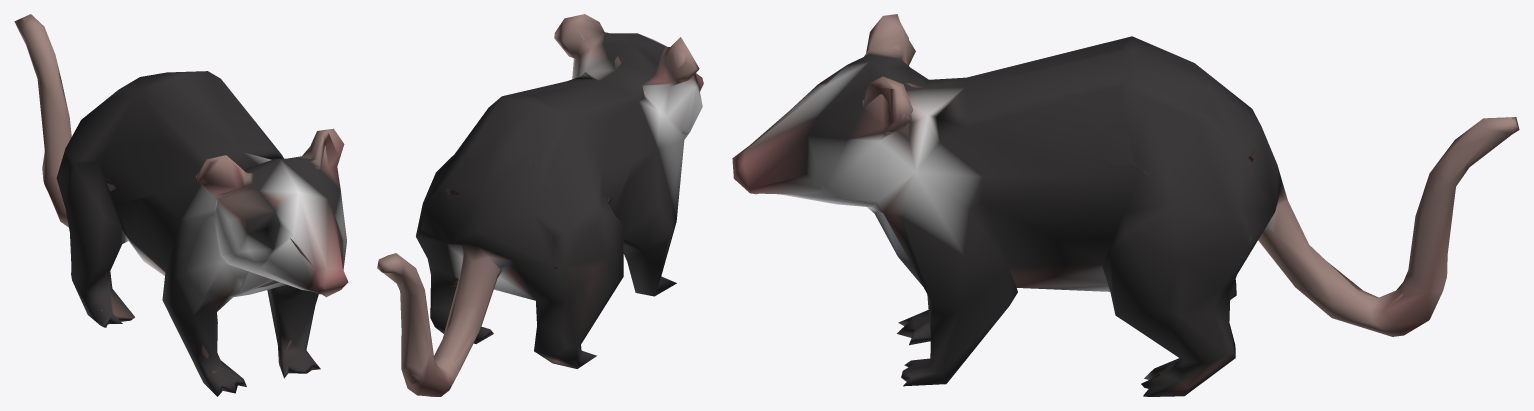
The model's file is gen3d-possum-lod1.glb.
The picture shows the model from 3 angles, left to right: view 1: azimuth 30°, elevation 25°; view 2: azimuth 150°, elevation 25°; view 3: azimuth 270°, elevation 25°; orthographic projection. The views are drawn at different scales.
Visible parts, largest first — view 1: part_0; view 2: part_0; view 3: part_0.
Part boxes in pixels (x1,y1,x2,y2): part_0: [14, 14, 348, 396]; part_0: [377, 14, 703, 396]; part_0: [732, 14, 1519, 396].
Size of the model in its own units: 0.7822 by 0.9985 by 2.29.
